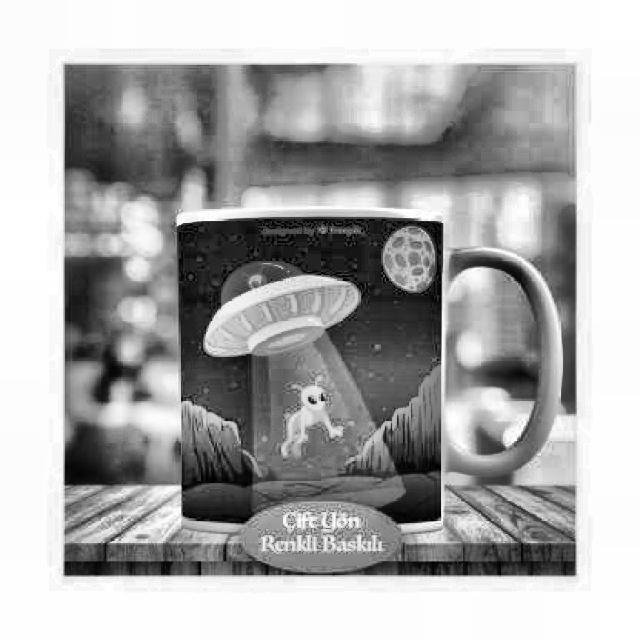Mug: (175, 207, 563, 530)
